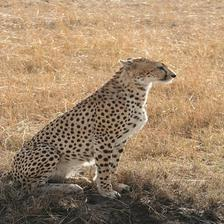Cheetah: (0, 53, 178, 203)
